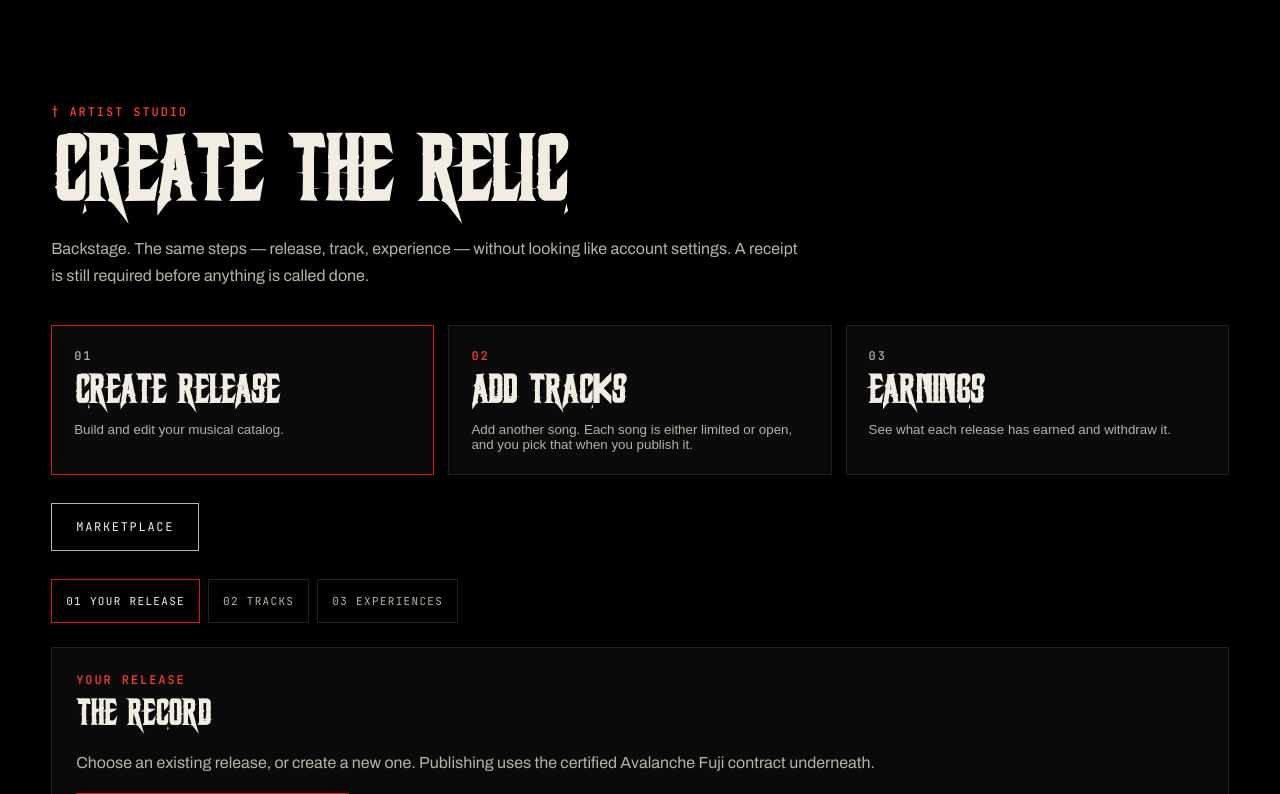
Test: Studio has no already-uploaded file pickers › shows only the upload button on the Experiences step
Click the button "03 Experiences" at (388, 601), box top-left (317, 579), bottom-right (458, 623)
(page scrolled)
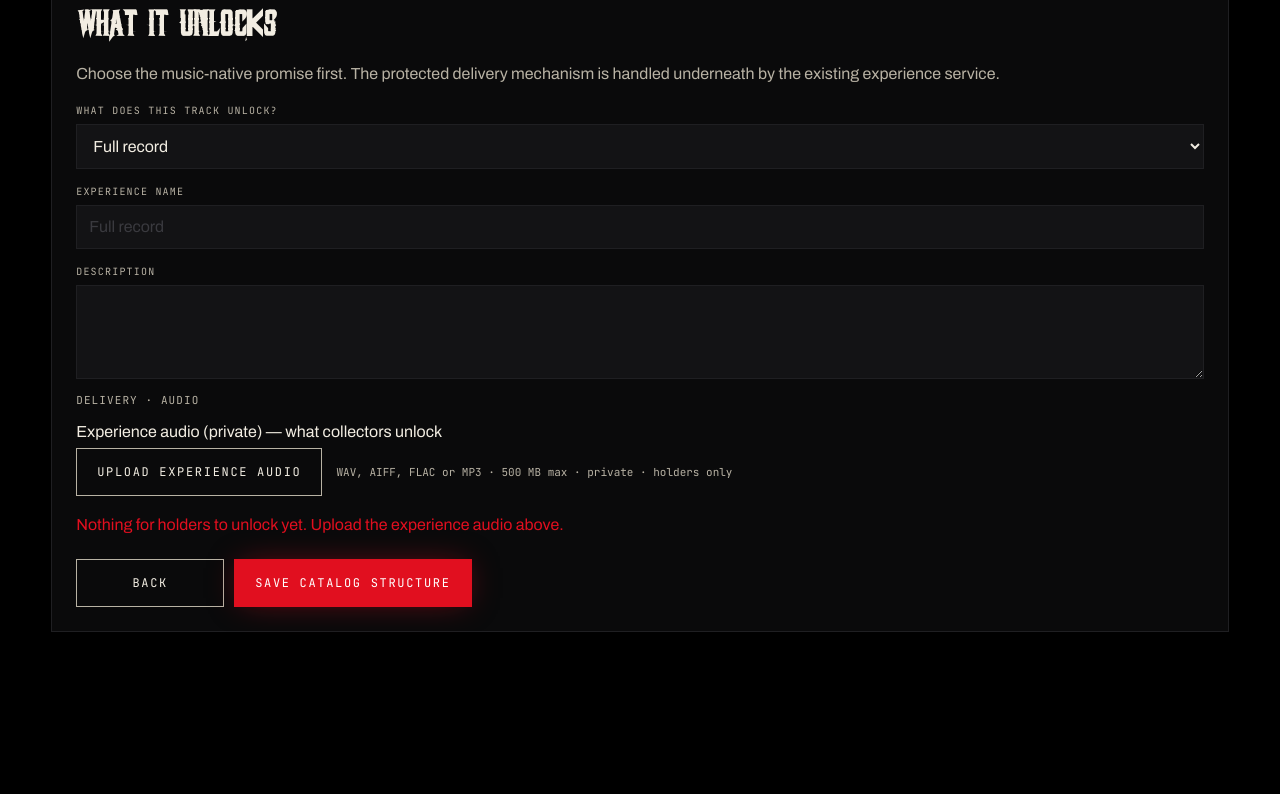
Expected: the button "Save catalog structure" is shown, top-left (234, 559), bottom-right (472, 607)
